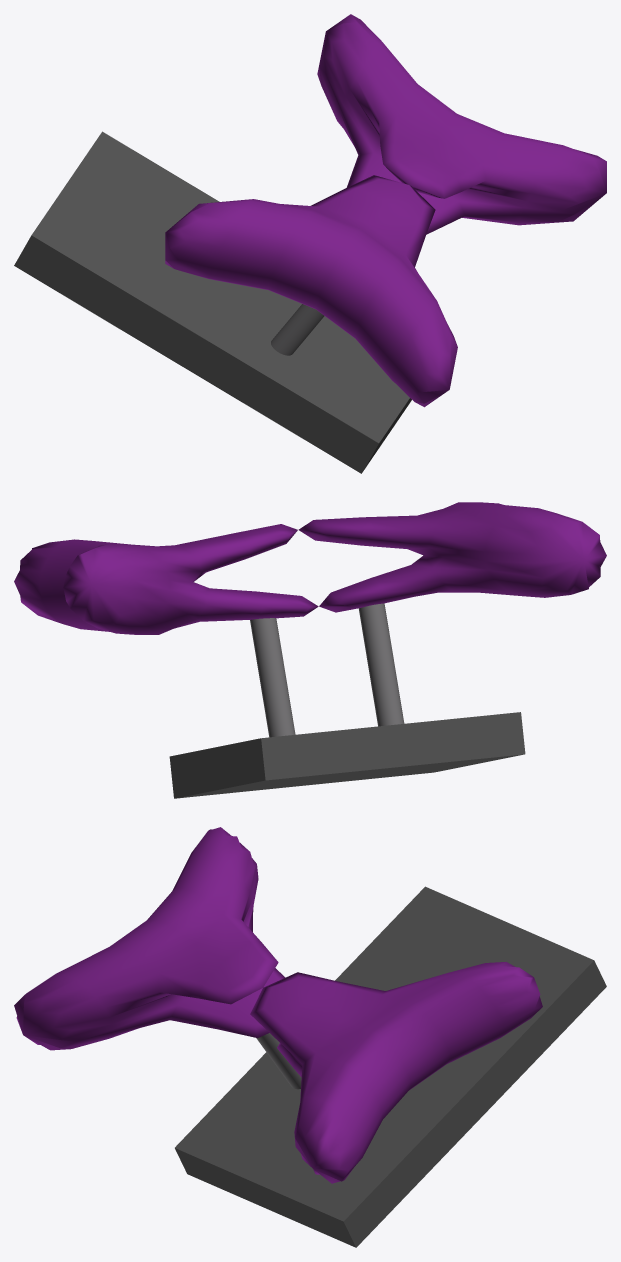
File: HeightHandle.fbx
3 renders of one model, top to bottom at view 1: azimuth 30°, elevation 25°; view 2: azimuth 150°, elevation 25°; view 3: azimuth 270°, elevation 25°, orthographic. The views are drawn at different scales.
Visible parts, largest first — view 1: Handle, pCube10, pCylinder14; view 2: Handle, pCube10, pCylinder14, pCylinder15; view 3: Handle, pCube10, pCylinder14.
Part boxes in pixels (x1=…): Handle: x1=165, y1=14, x2=606, y2=407; pCube10: x1=14, y1=131, x2=411, y2=473; pCylinder14: x1=271, y1=304, x2=324, y2=355; Handle: x1=14, y1=502, x2=606, y2=634; pCube10: x1=169, y1=712, x2=525, y2=798; pCylinder14: x1=358, y1=603, x2=404, y2=726; pCylinder15: x1=250, y1=618, x2=295, y2=737; Handle: x1=14, y1=827, x2=542, y2=1183; pCube10: x1=175, y1=886, x2=606, y2=1247; pCylinder14: x1=256, y1=1033, x2=301, y2=1089.
Size of the model in its own units: 5.32 by 2.79 by 5.3.
